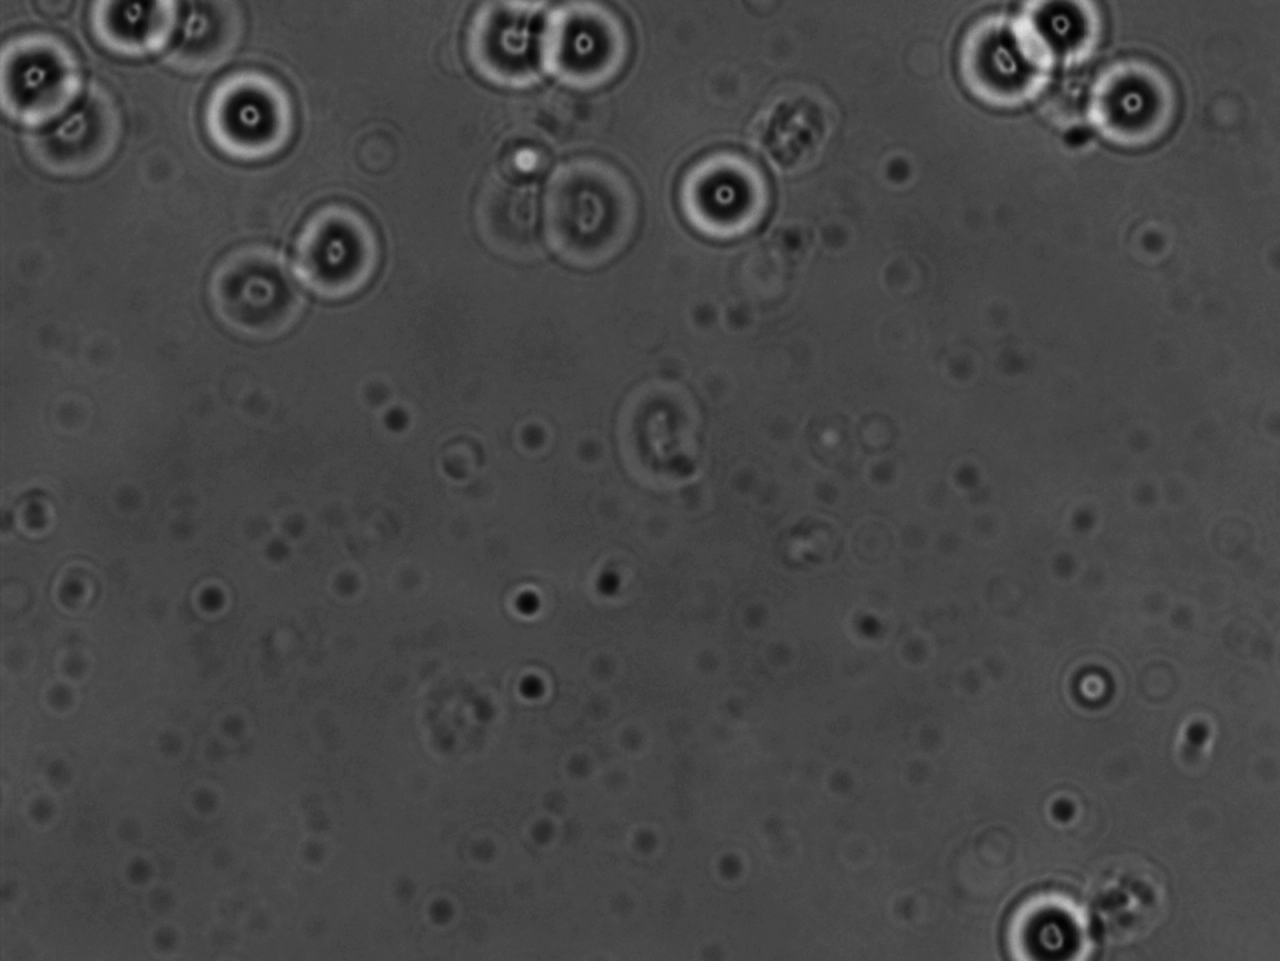depth:-8: (660, 136, 778, 256), (949, 10, 1071, 123), (195, 61, 318, 173), (527, 1, 655, 108), (1075, 54, 1192, 165), (283, 190, 391, 309)
